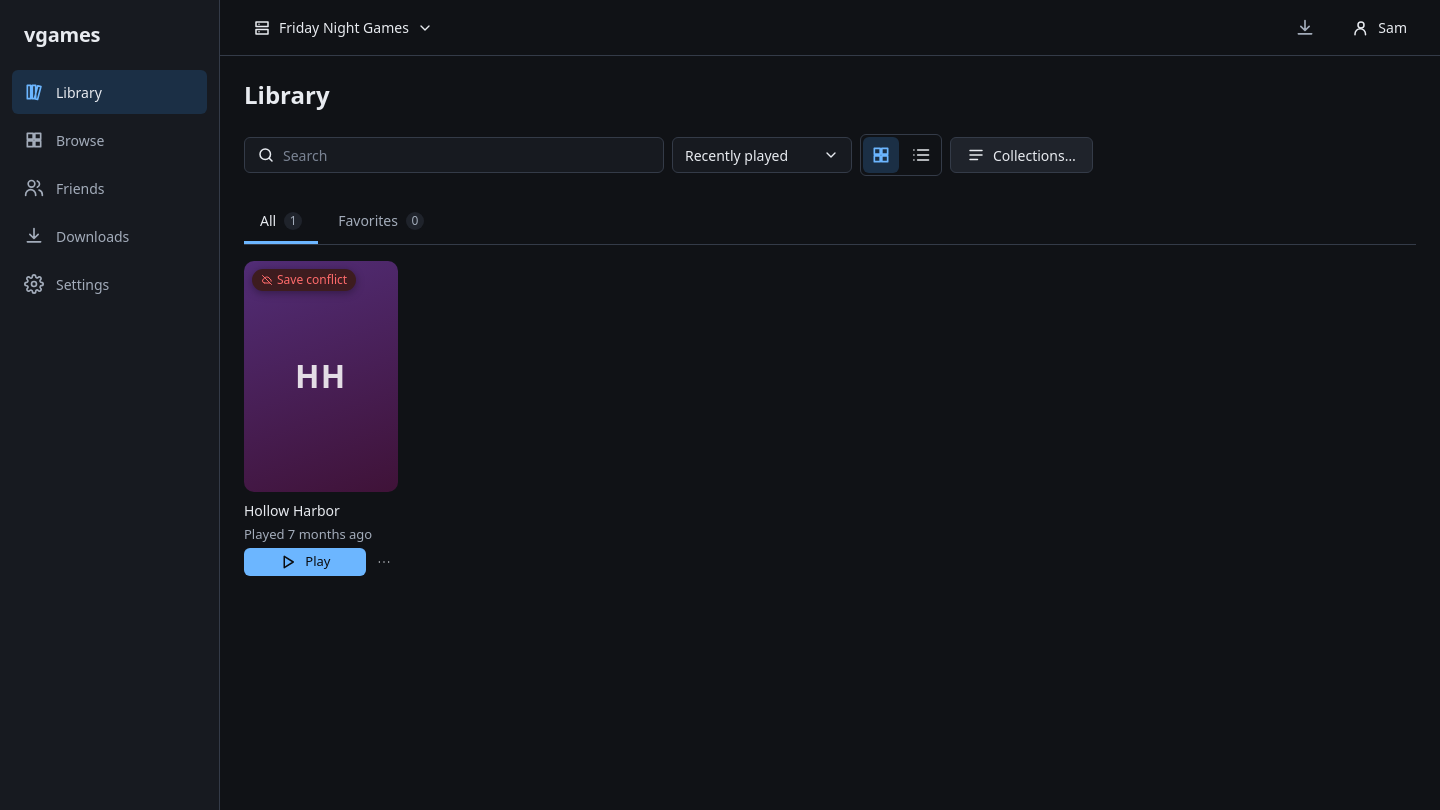
Test: cloud-save conflict dialog › opens from the refused launch, shows both sides and keeps the cloud saves
Expected: the heading "Library" is shown, [244,78,330,111]
Click the button "Play" at (305, 562), box [244,548,366,576]
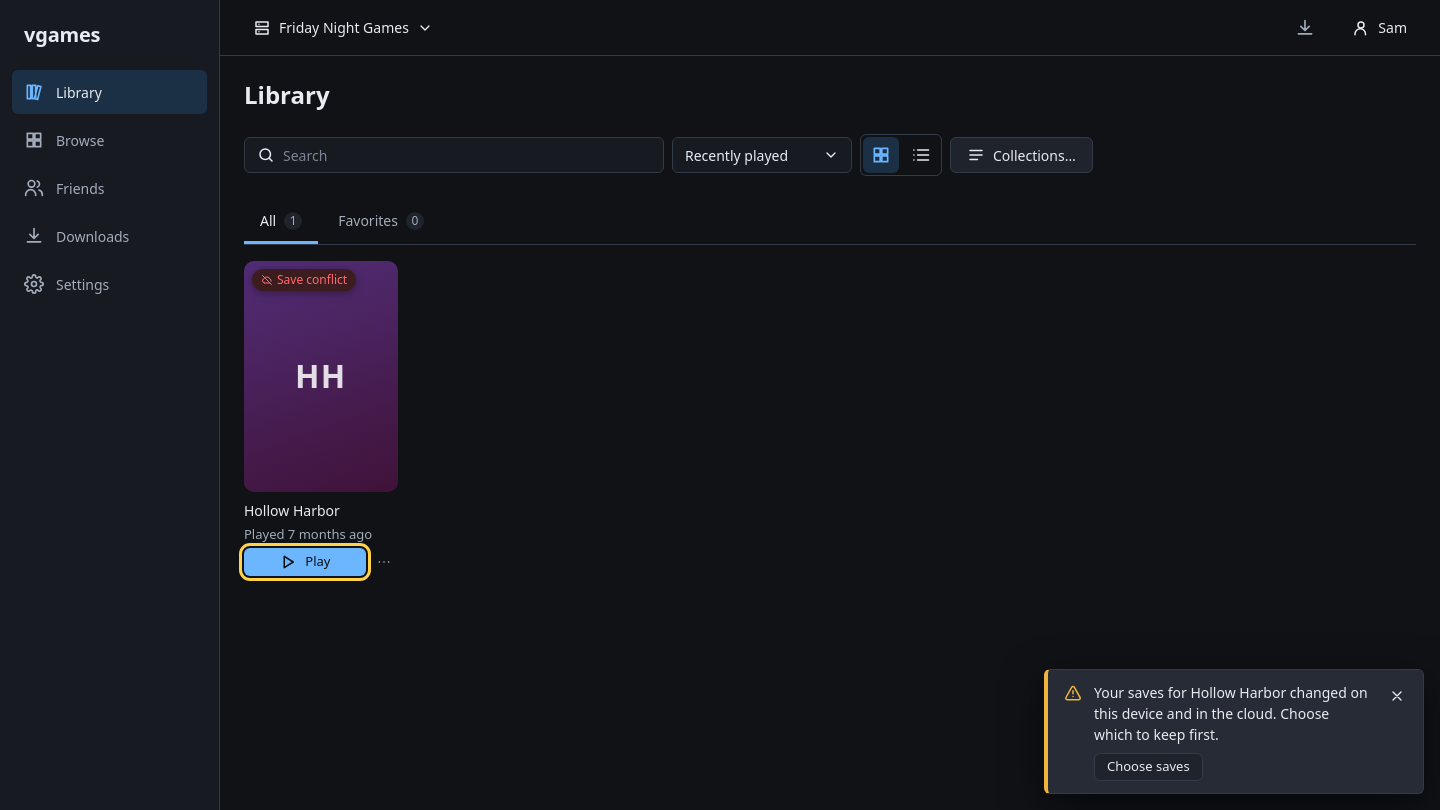
Click the button "Choose saves" at (1148, 767), box [1094,753,1203,781]
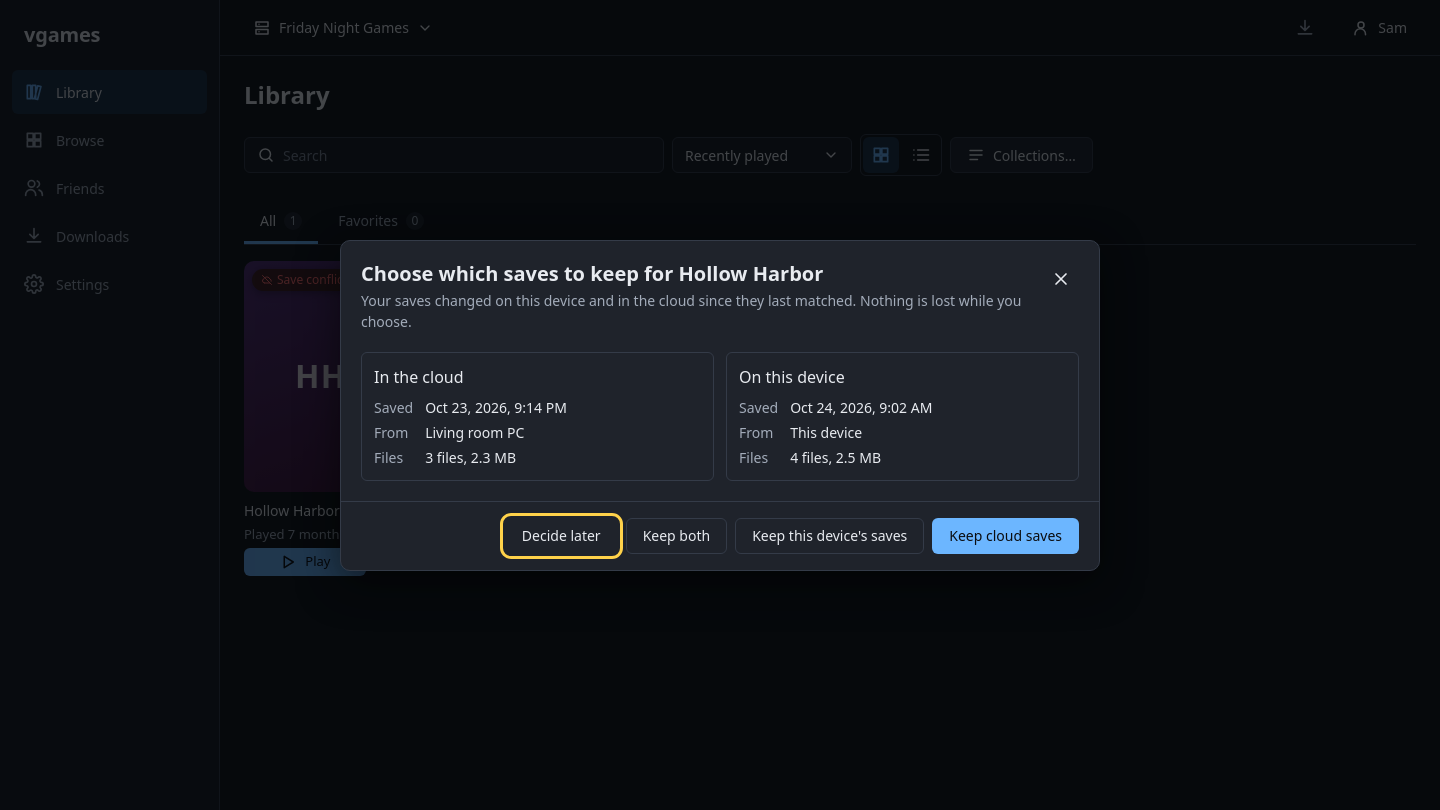
Click the button "Keep cloud saves" at (1006, 536), box [932,518,1079,554]
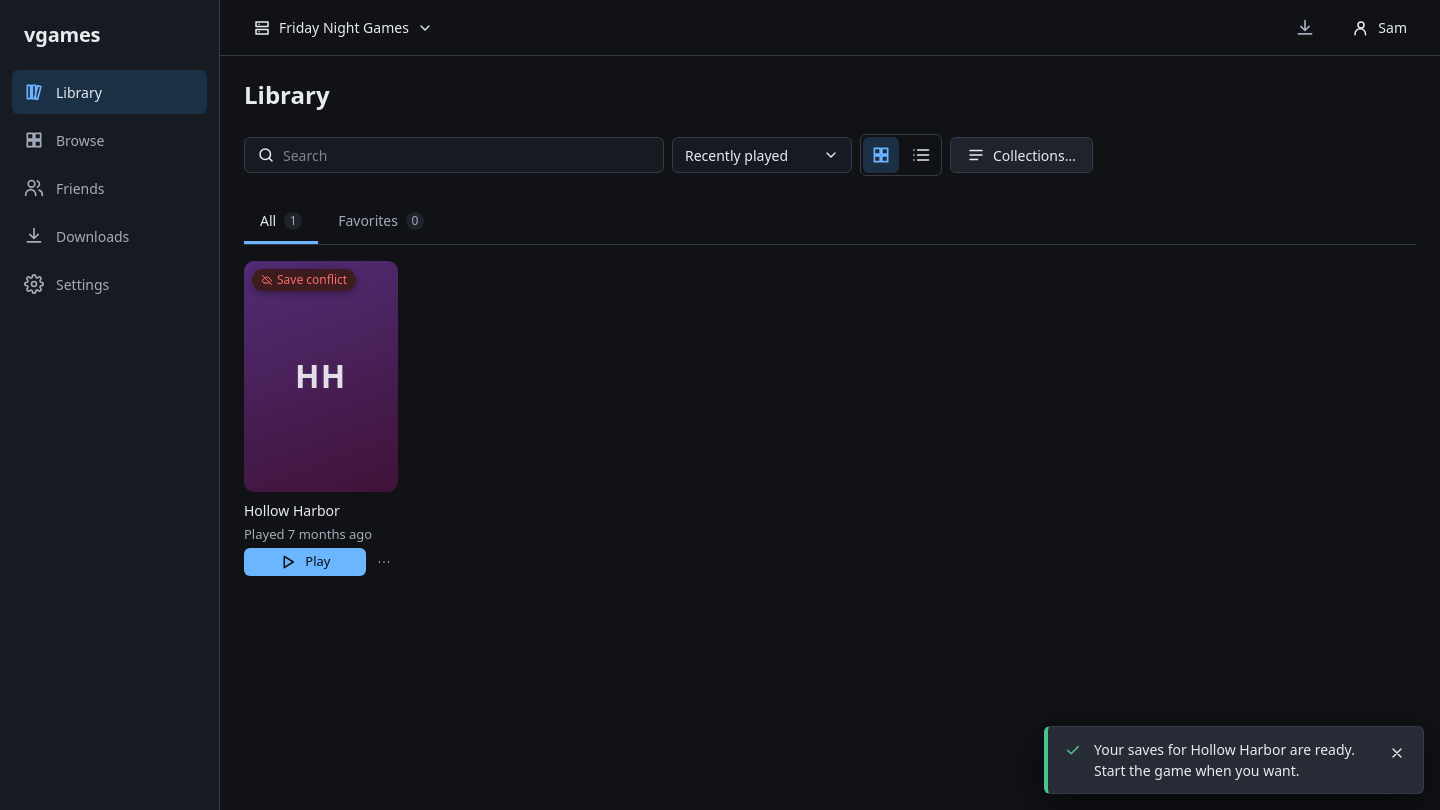
Result: the dialog is gone
